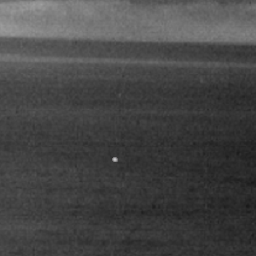Target: (111, 156, 119, 163)
